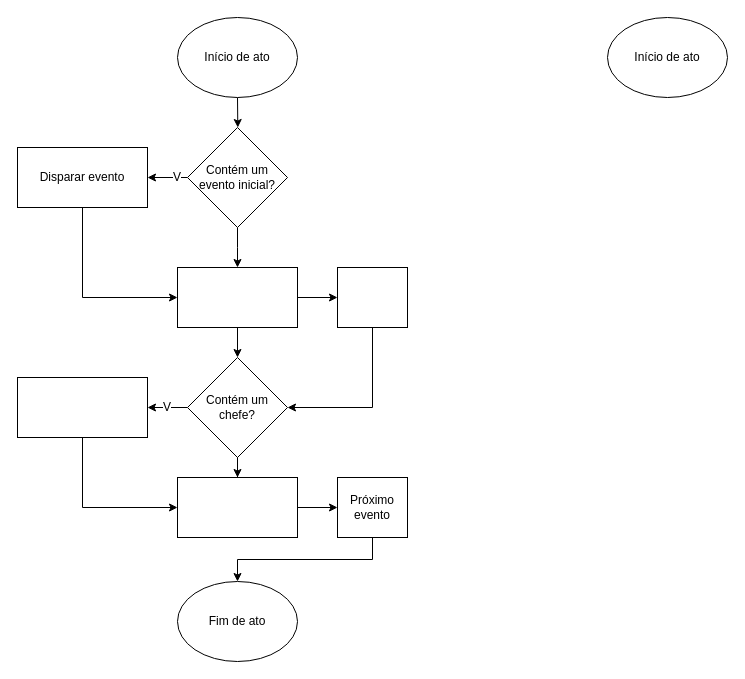
This 745x679 diagram has some shape labels left out. The centre of each missing label's shape, as x and y in pixels:
"Encerrar jogatina" goes at [237,507].
"Enfrentar chefe" goes at [82,407].
"Explorar" goes at [372,297].
"Iniciar jogatina" goes at [237,297].
